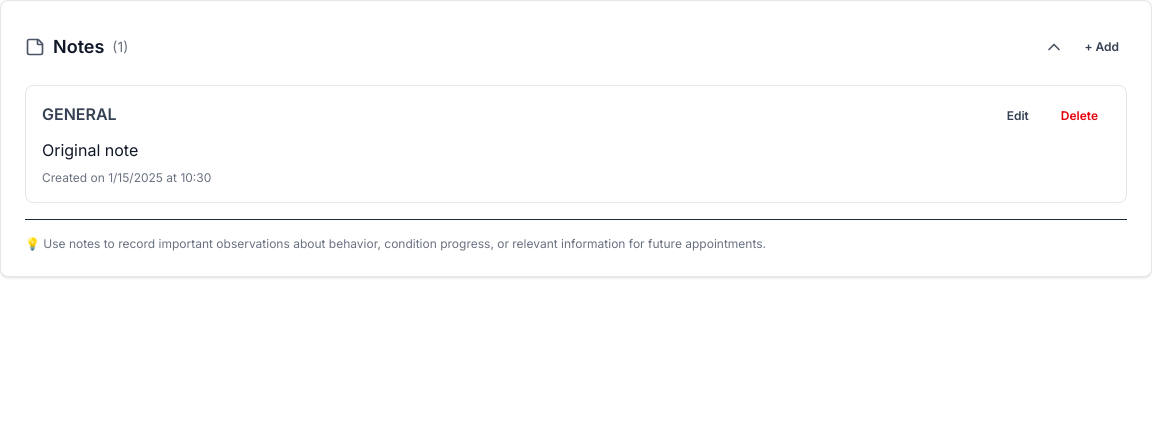
Test: PatientNotesCard › allows editing an existing note
Expected: the text "Original note" is shown, x1=42 y1=140 x2=138 y2=160
// Click edit button
Click the button "Edit" at (1018, 116), box x1=995 y1=102 x2=1041 y2=130
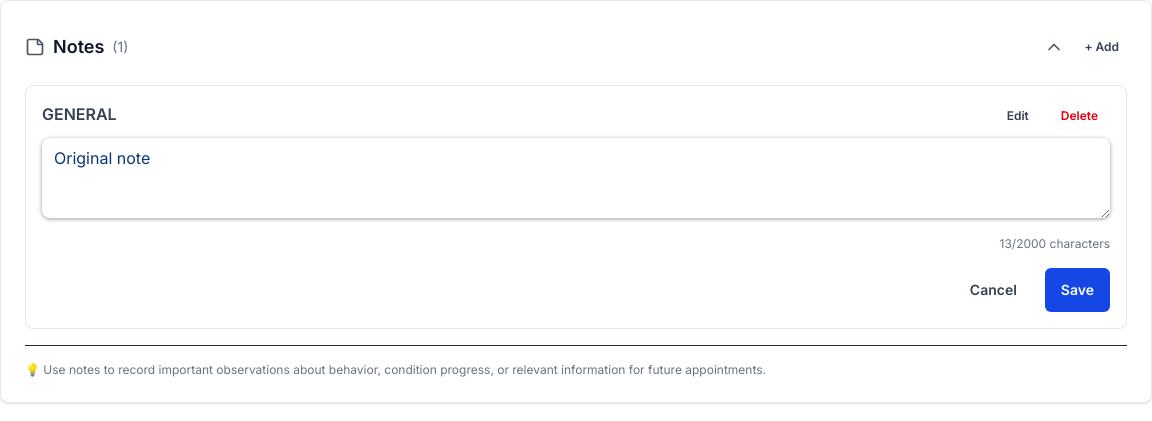
Expected: the text box showing "Original note" is shown
// Update content
Replace the text in the text box showing "Original note" with "Updated note" at (576, 178), box x1=42 y1=138 x2=1110 y2=218
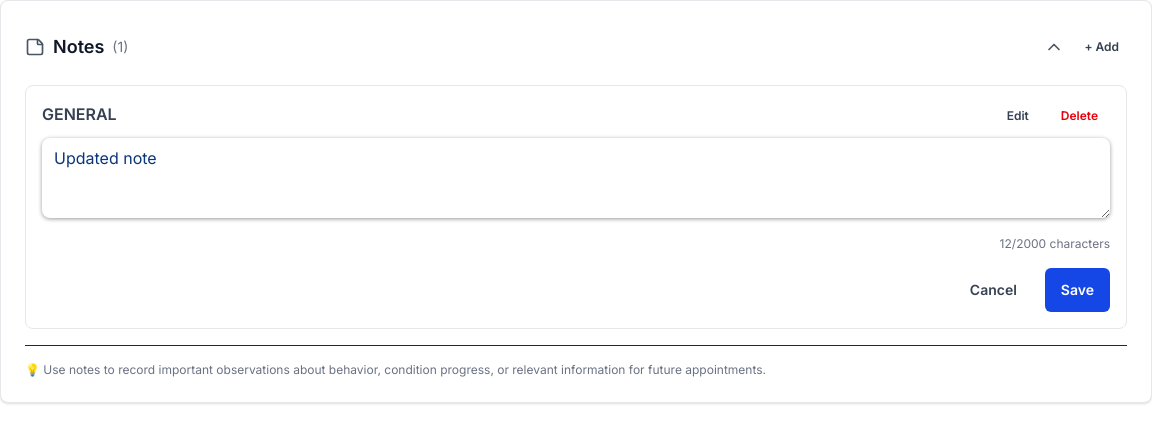
// Save changes (edit form uses "Save", add form uses "Save Note")
Click the button "Save" at (1077, 290), box x1=1045 y1=268 x2=1110 y2=312
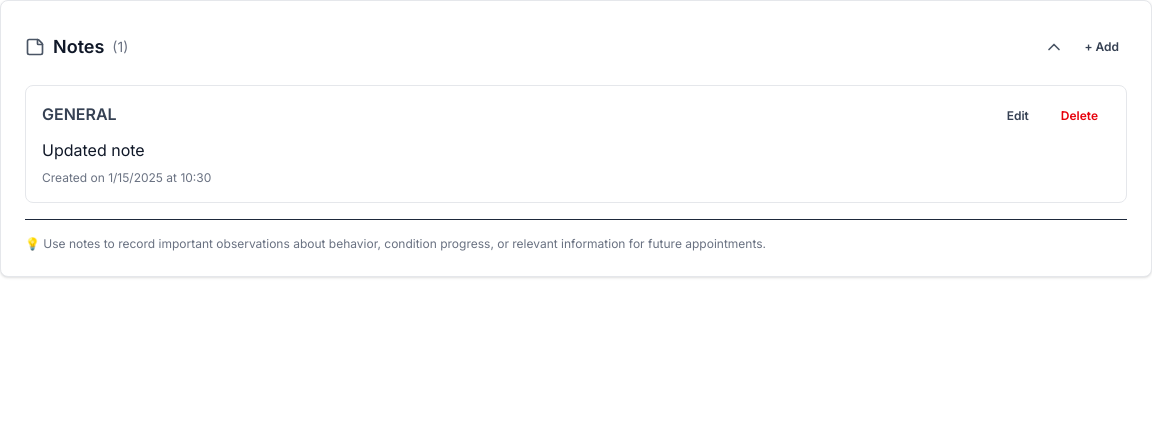
Expected: the text "Updated note" is shown, x1=42 y1=140 x2=145 y2=160
